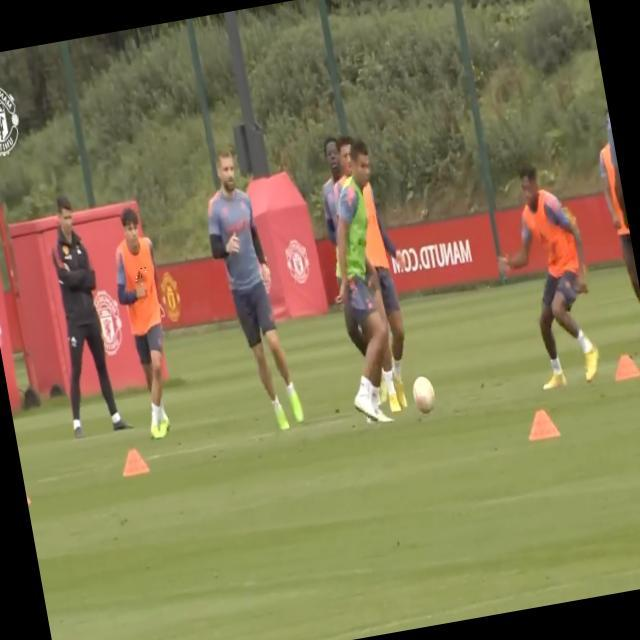Adidas: (132, 265, 149, 286)
